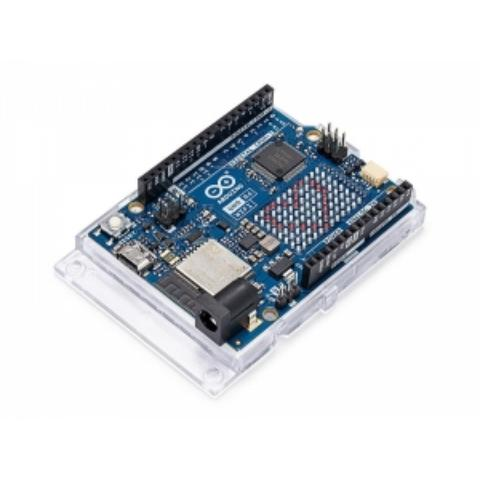Arduino-Uno: (84, 82, 420, 358)
